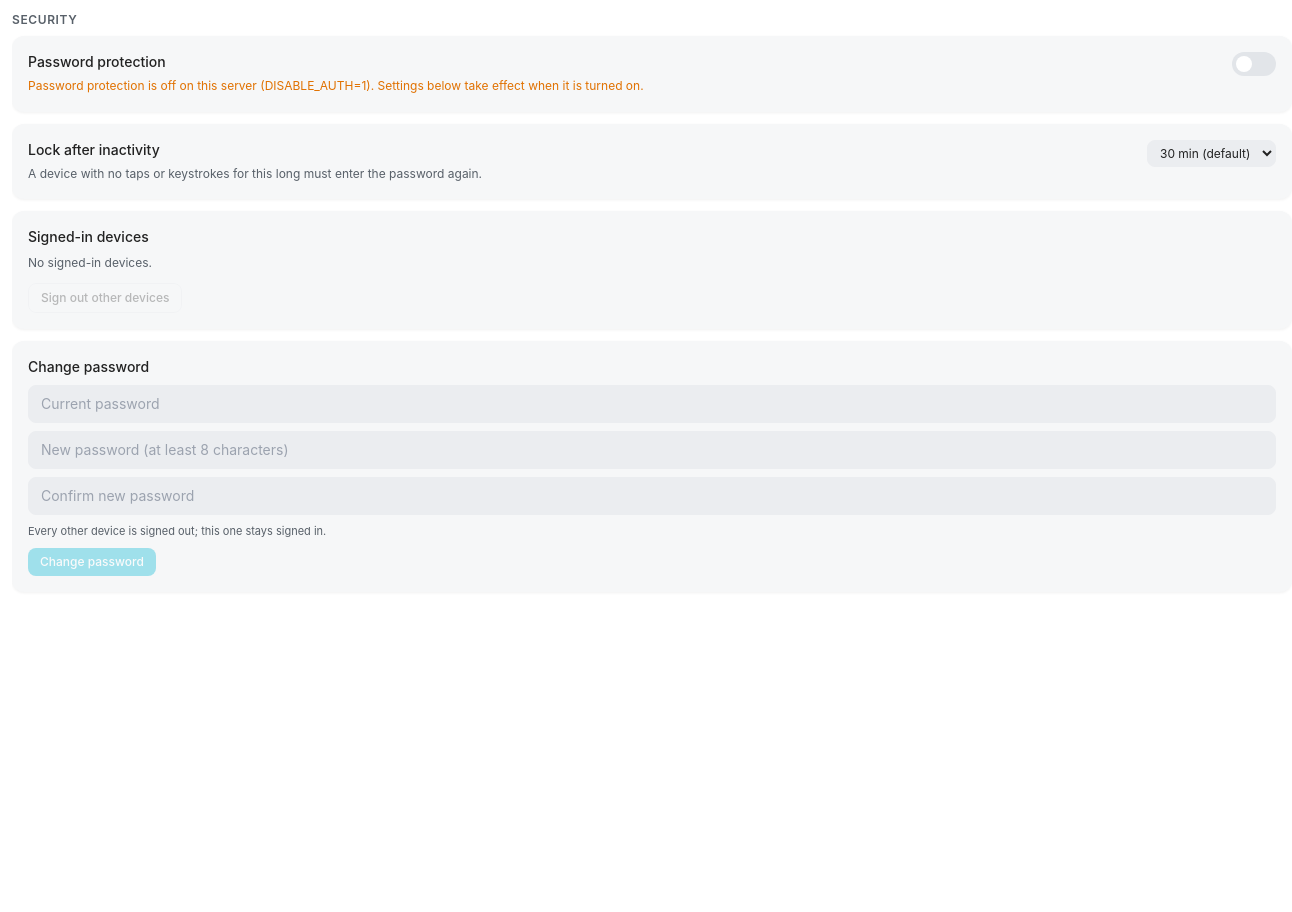
Test: Password protection card: off › {"status":429}: shows Too many failed attempts. Try again later., state unchanged
Click the switch named "Password protection" at x=1254, y=64, box [1232,52,1276,76]
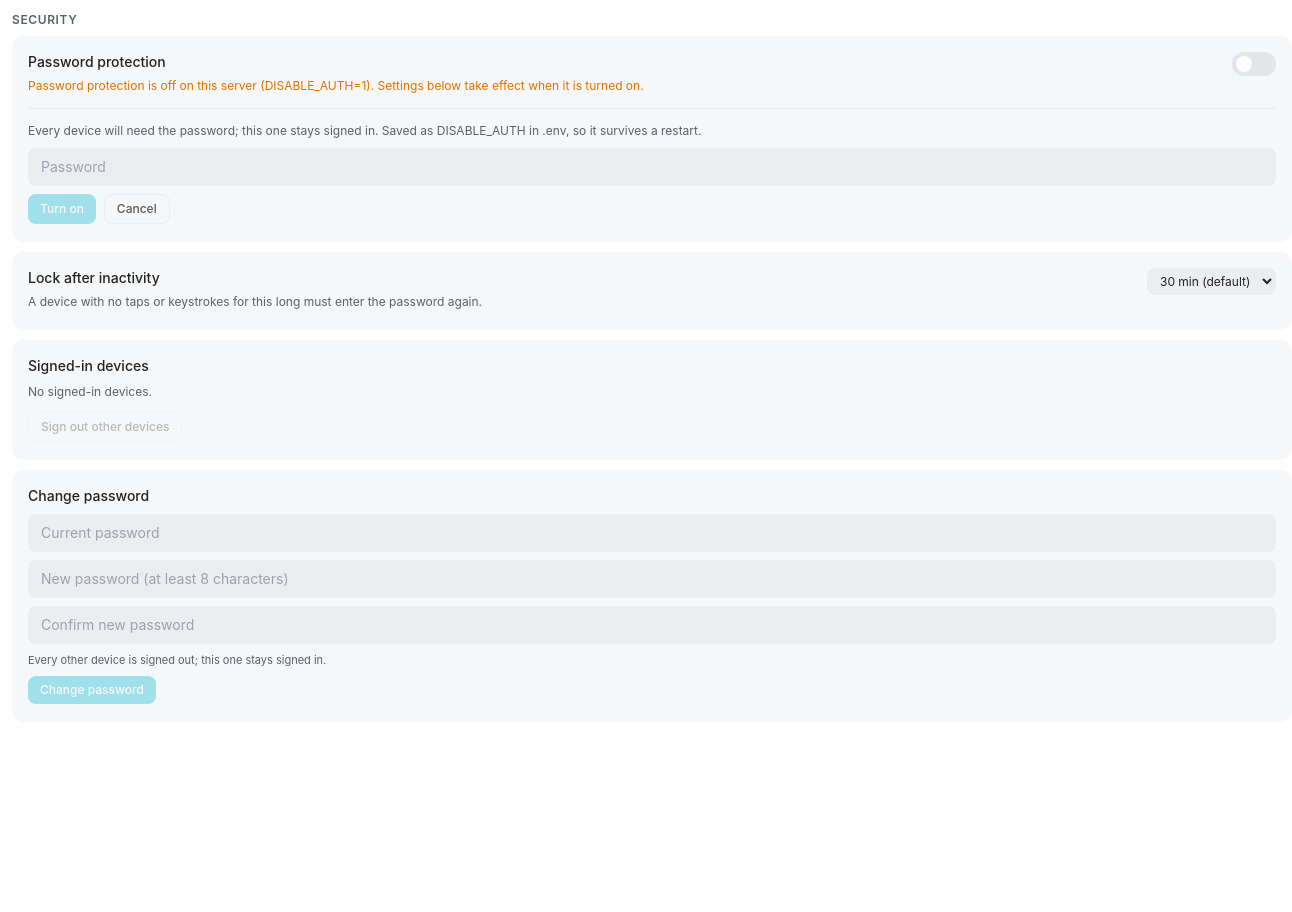
Type "pw-123456" into the password field labelled "Password" at x=652, y=167, box [28,148,1276,186]
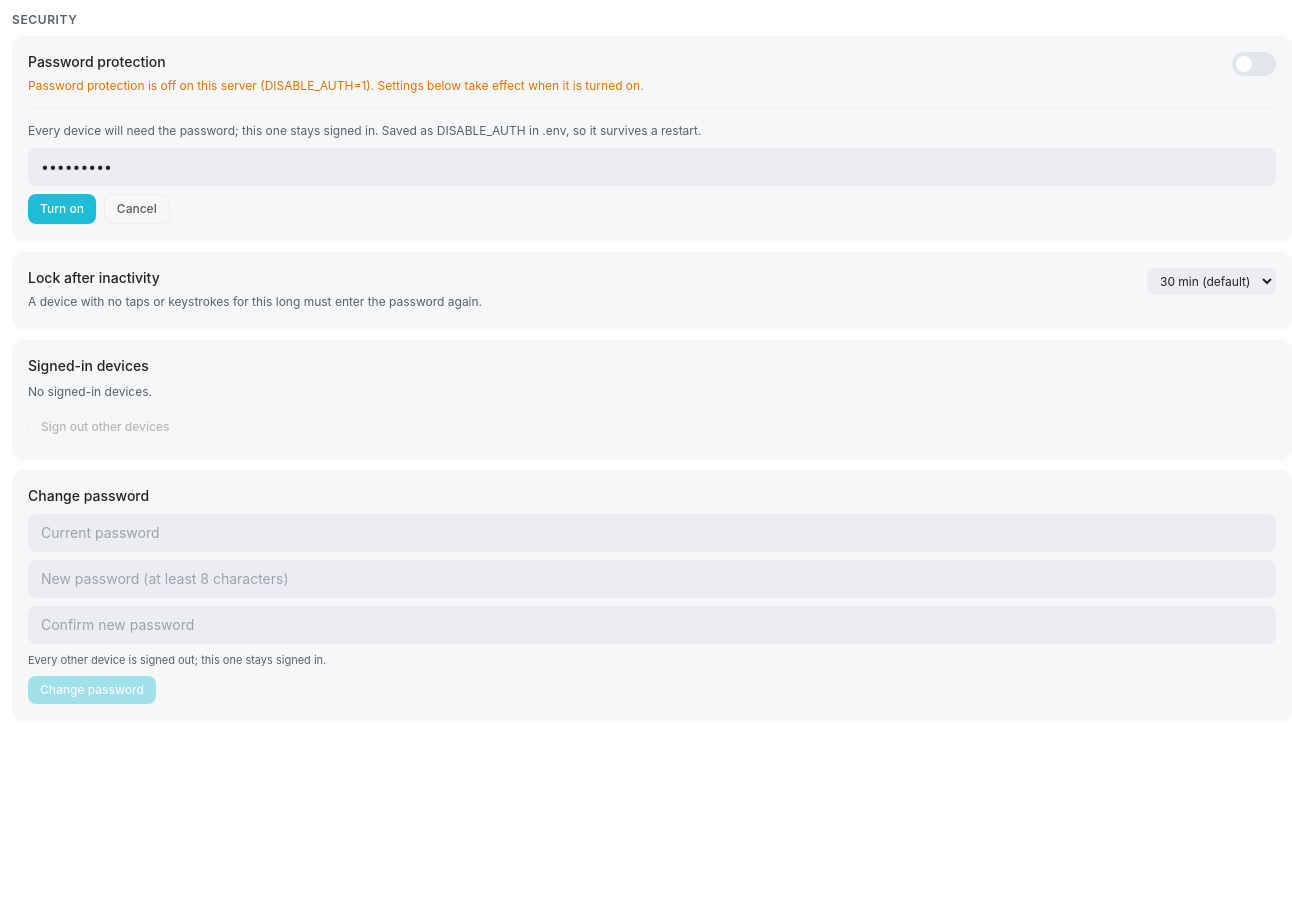
Click the button "Turn on" at x=62, y=209, box [28,194,96,224]
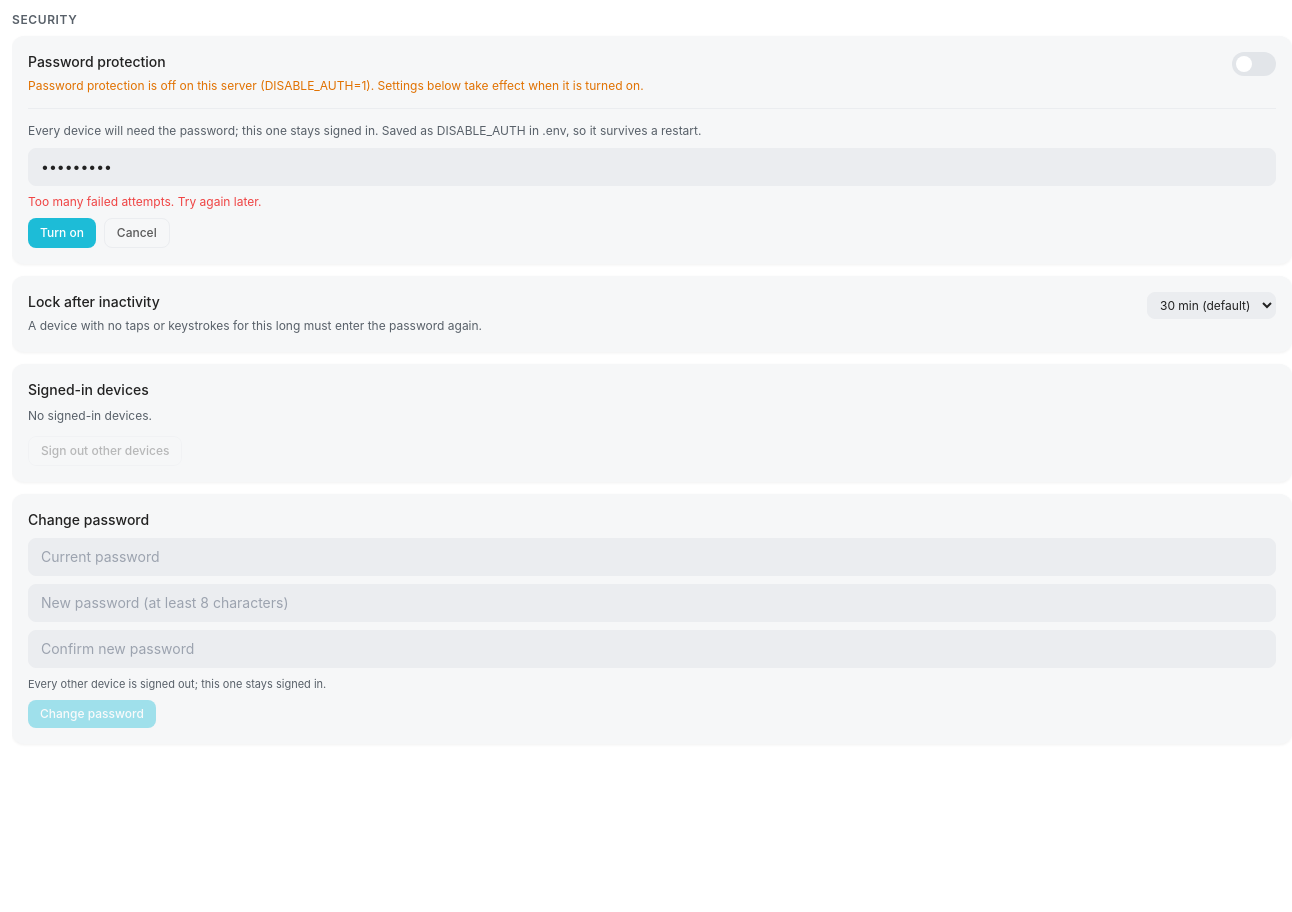
Expected: the message reads "Too many failed attempts. Try again later.", [28,194,262,209]
